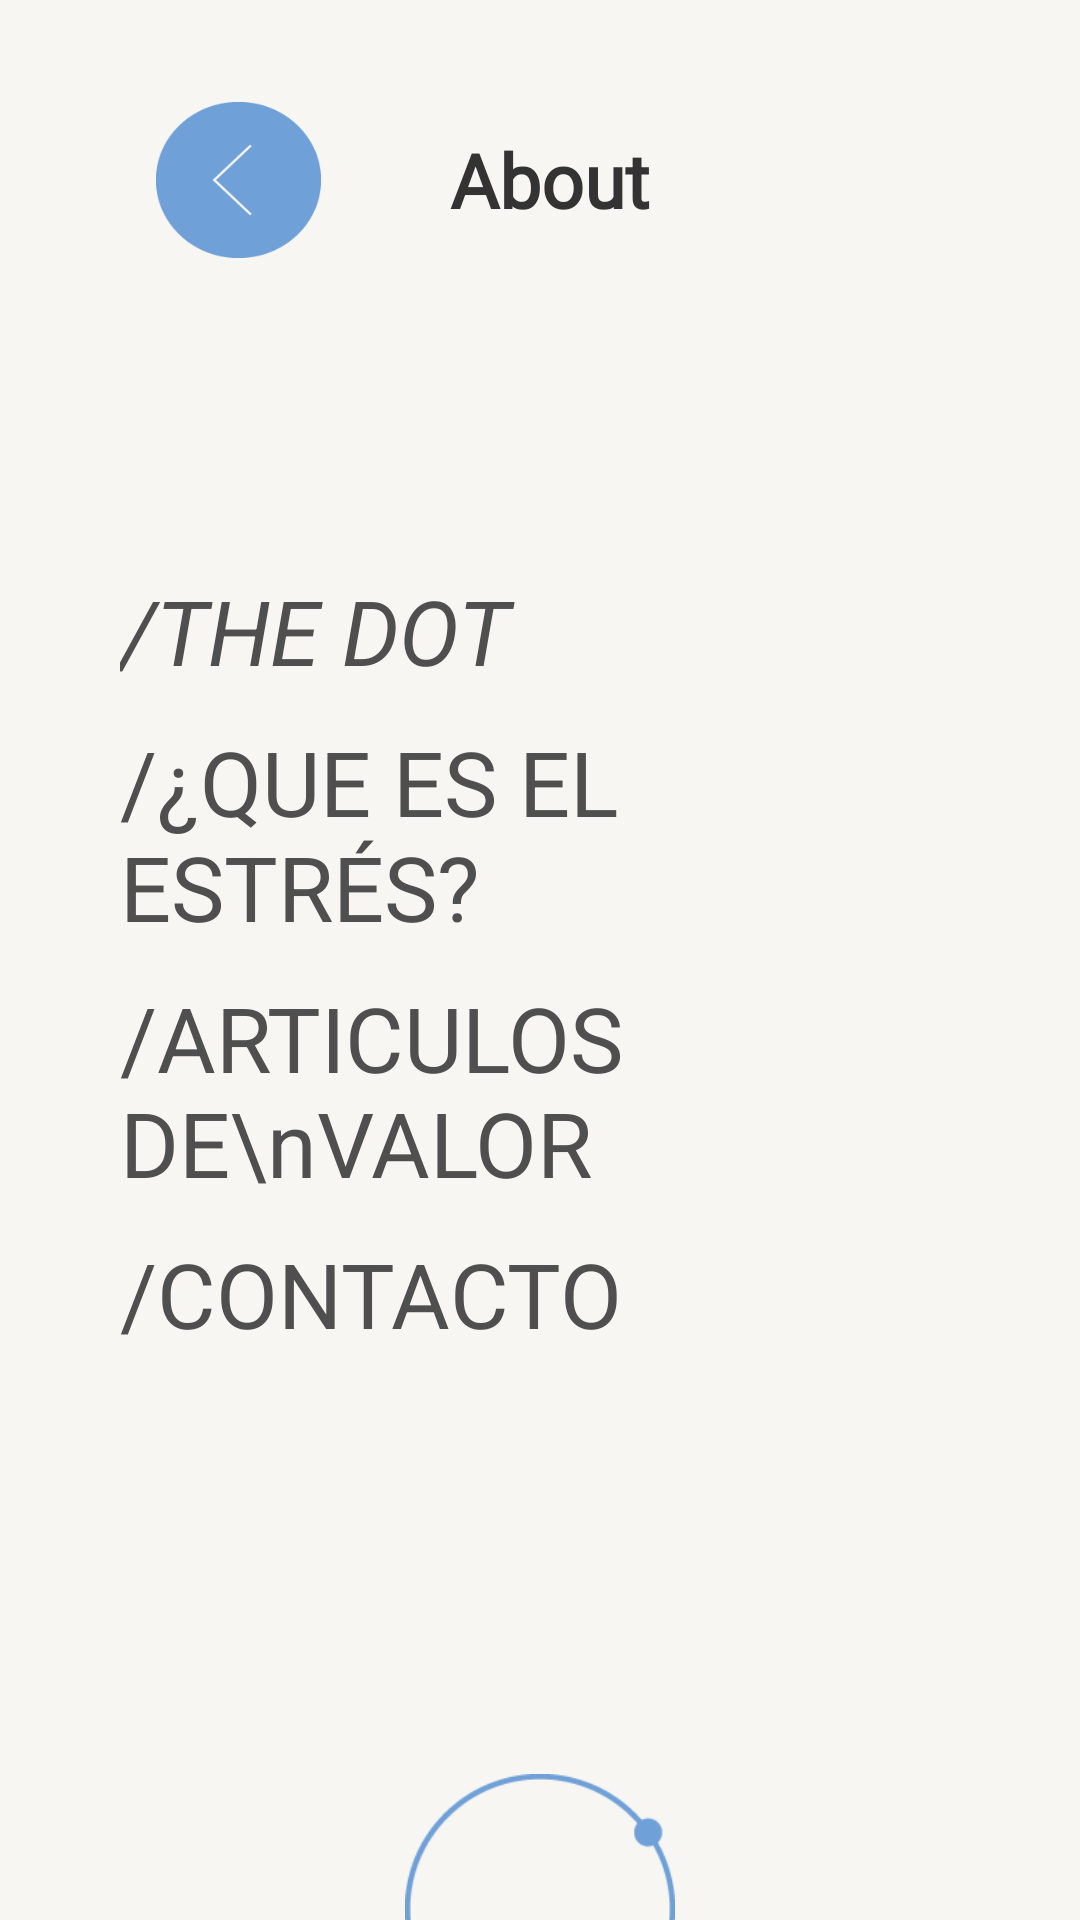

Screen size 1080px×1920px. Icon name, then its box in pixels as (x1, y1, x2, y2):
regresar xxxdpi: (156, 102, 321, 258)
